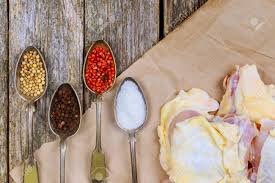Chicken: (163, 102, 254, 183)
